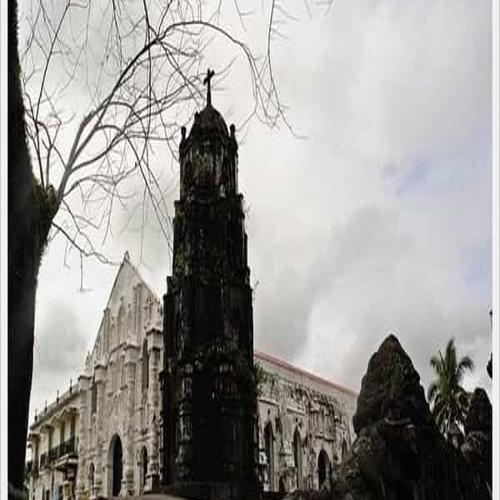Daraga Church: (28, 63, 270, 494)
